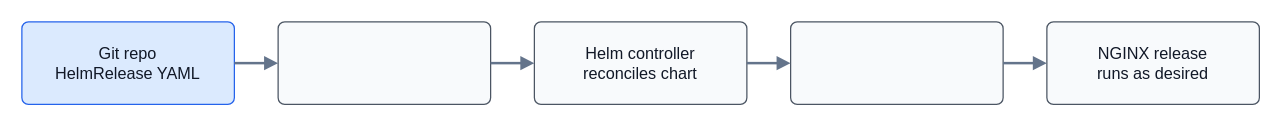
Some shapes in this 1281 by 126 pixel diagram are drawn without their labels. The shapes that lost their labels are listed below. From the top down, each one's centre as x and y in pixels, then its label:
(x=384, y=62): Flux source controller watches Git
(x=896, y=62): Kubernetes cluster applies resources
